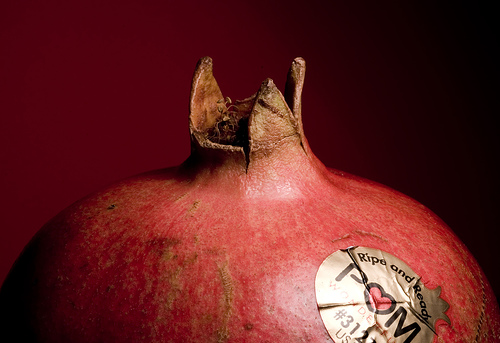pomogranate: (0, 55, 499, 342)
